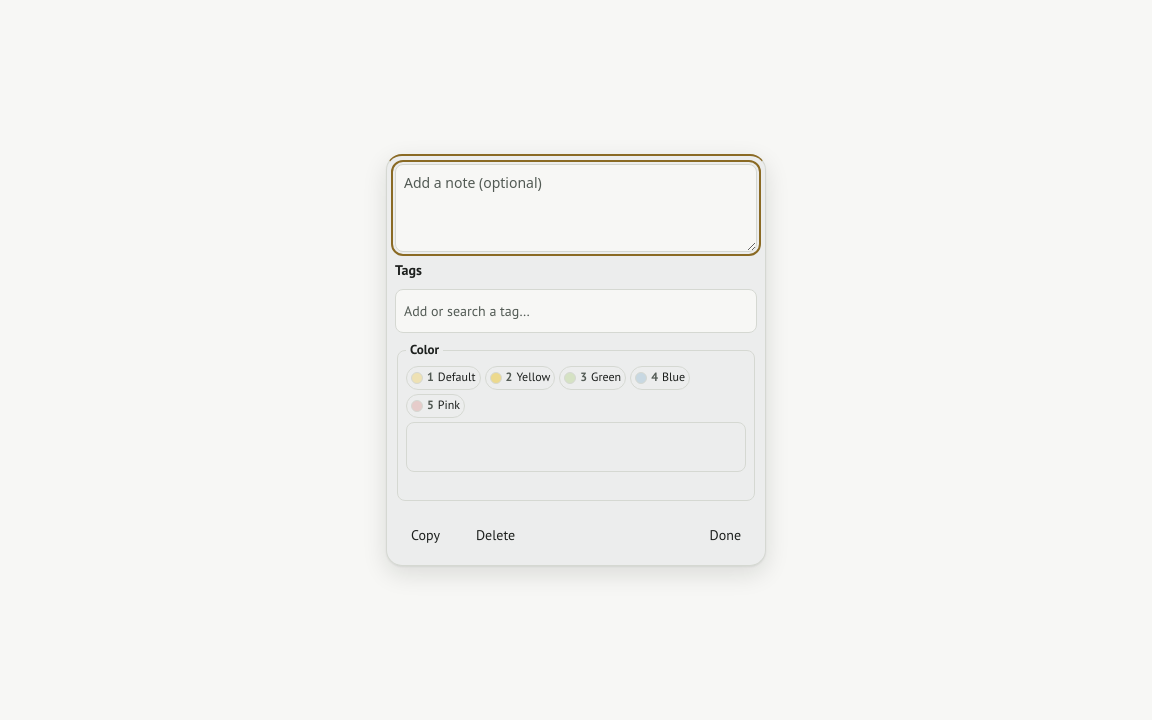
Scenario: HighlightTagsDialog — the always-visible tag field (issue #207) › a failed write surfaces the inline 'Couldn't save tag.' status (rethrow contract)
Type "philosophy" into the dropdown with placeholder "Add or search a tag…".
click(576, 311); type("philosophy")  # box left=395, top=289, right=757, bottom=333
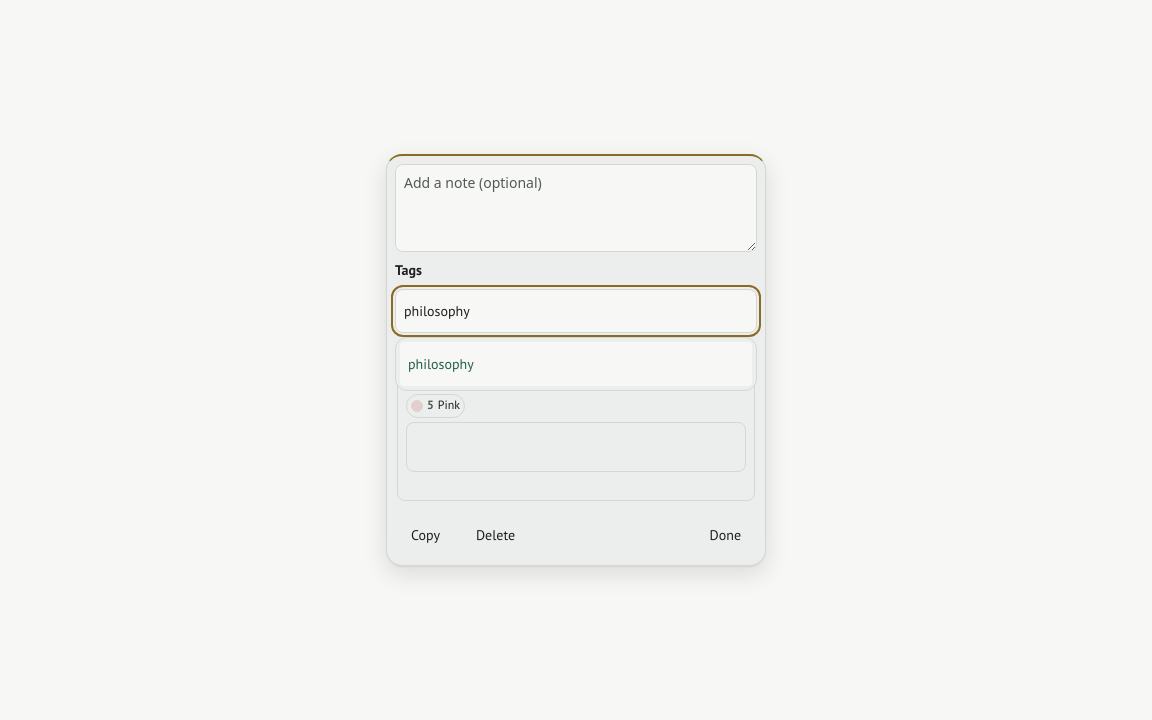
Press Enter
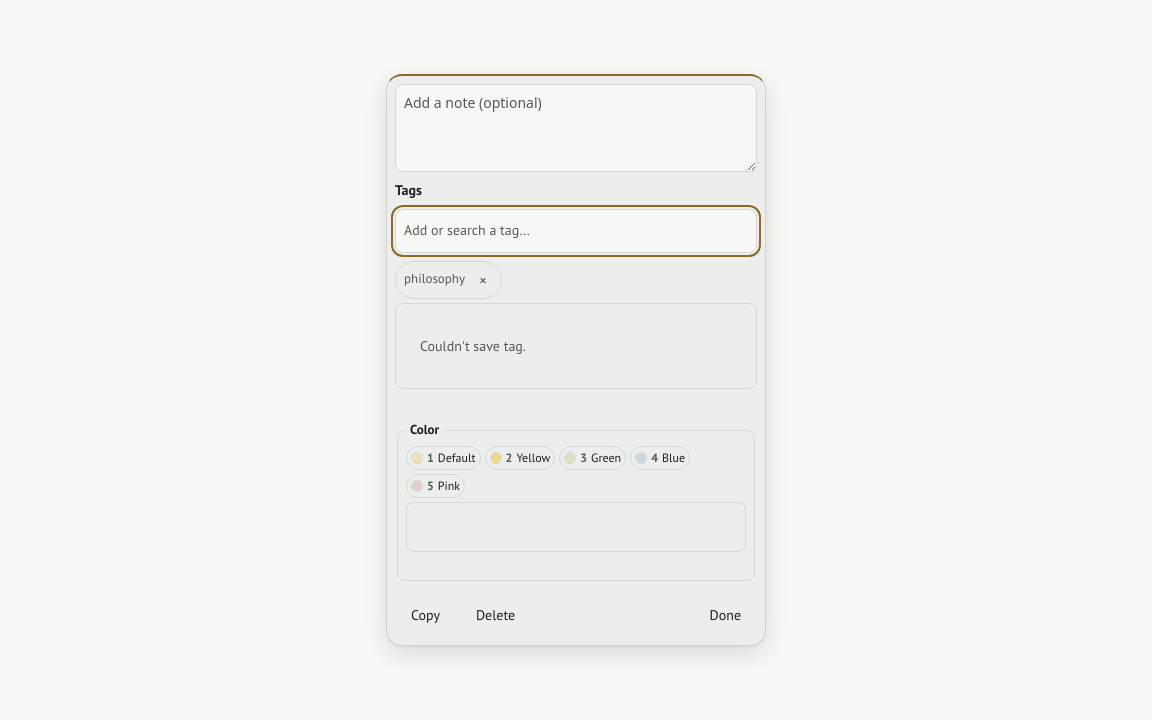
expect the text "Couldn't save tag." is shown: met, box left=420, top=337, right=526, bottom=355
